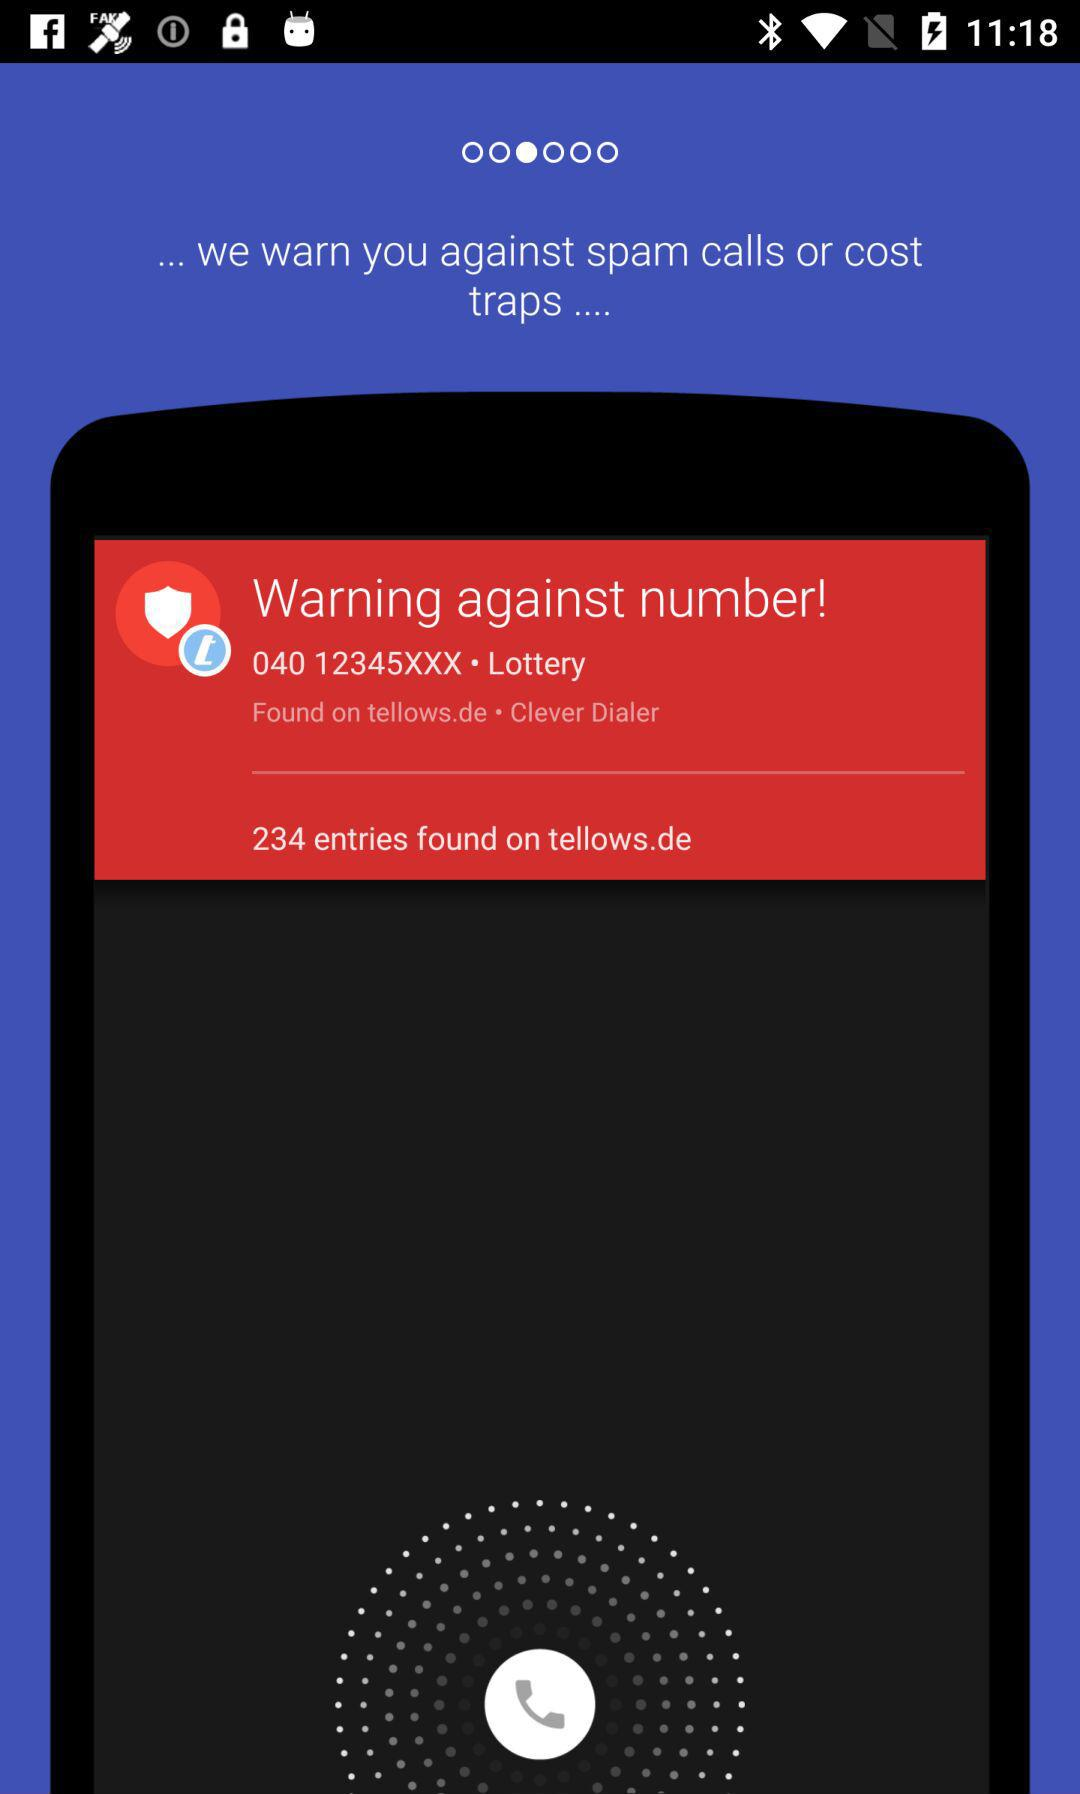Image: (51, 391, 1031, 1794)
PageIndicator: (461, 141, 620, 167)
Text: (156, 236, 922, 325)
UpperTaskBar: (1, 1, 1080, 64)
